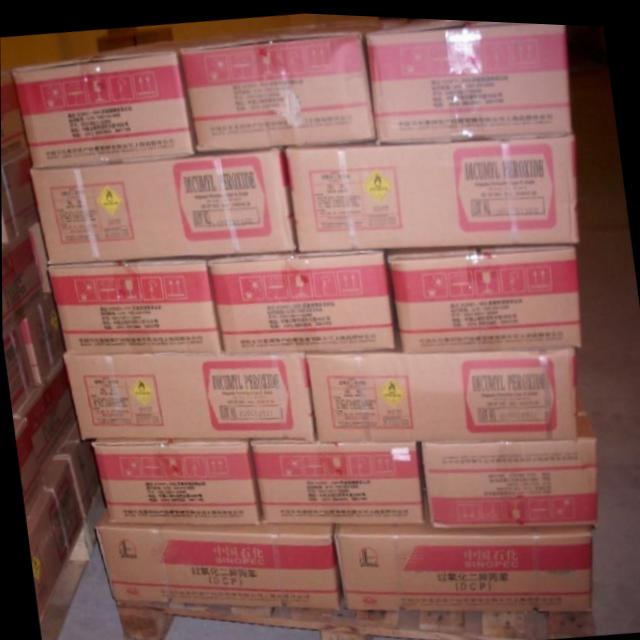box: (332, 440, 591, 606), (285, 128, 580, 248), (30, 144, 296, 263), (12, 31, 235, 166), (176, 15, 393, 151), (366, 14, 574, 139), (306, 344, 578, 436), (95, 507, 344, 606), (418, 392, 597, 524), (62, 350, 316, 438), (384, 238, 581, 348), (204, 244, 397, 350), (46, 253, 223, 352), (247, 434, 424, 521), (91, 436, 259, 523)
